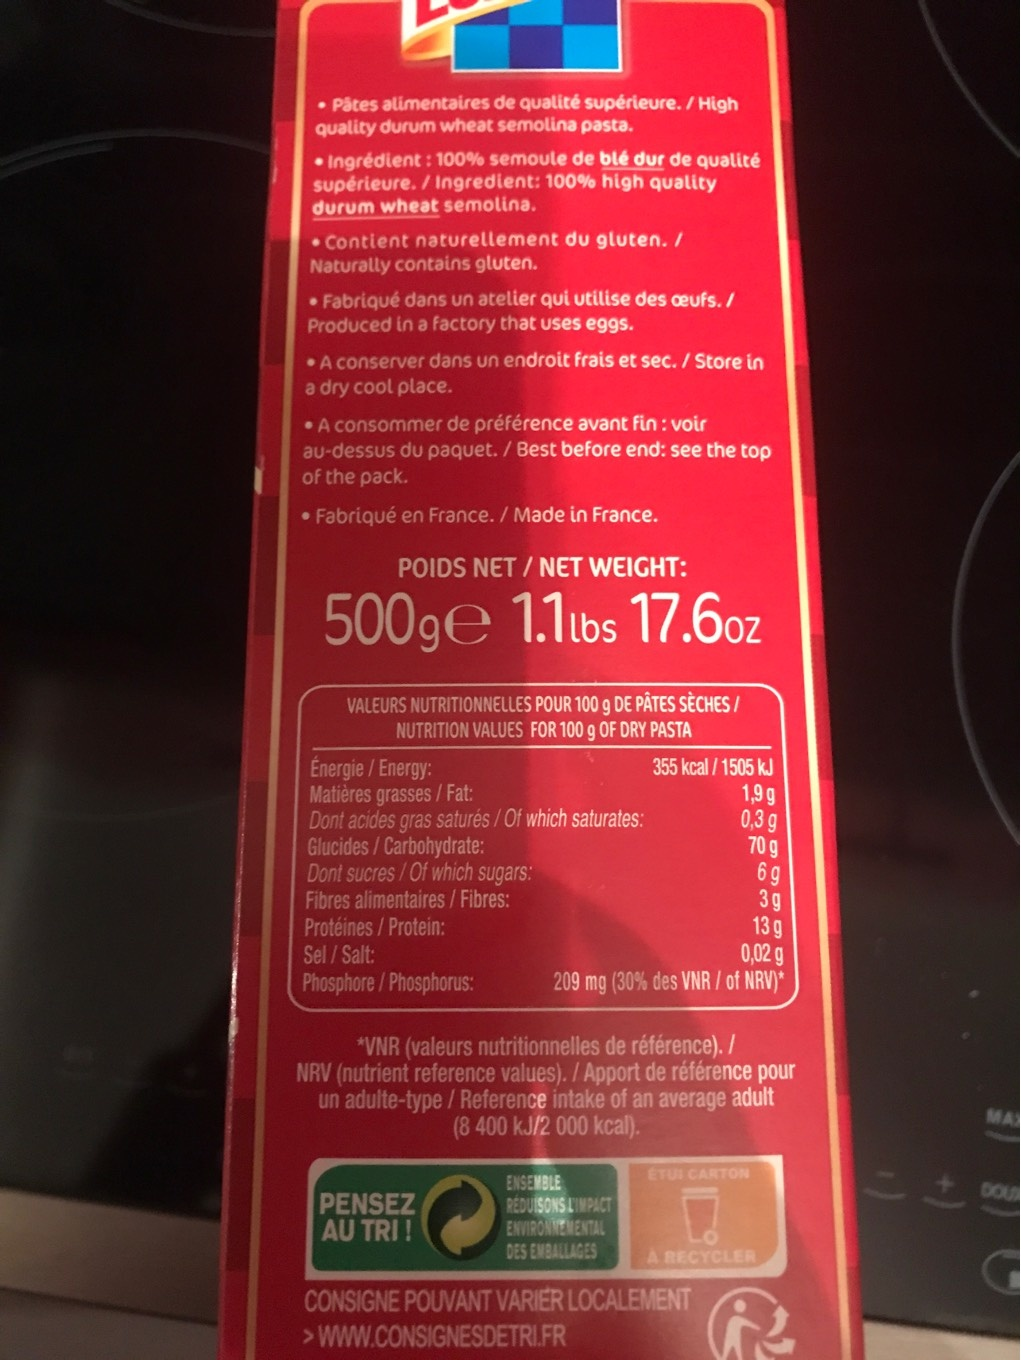column: (302, 752, 645, 969), (651, 755, 783, 967)
table: (290, 679, 807, 1022)
